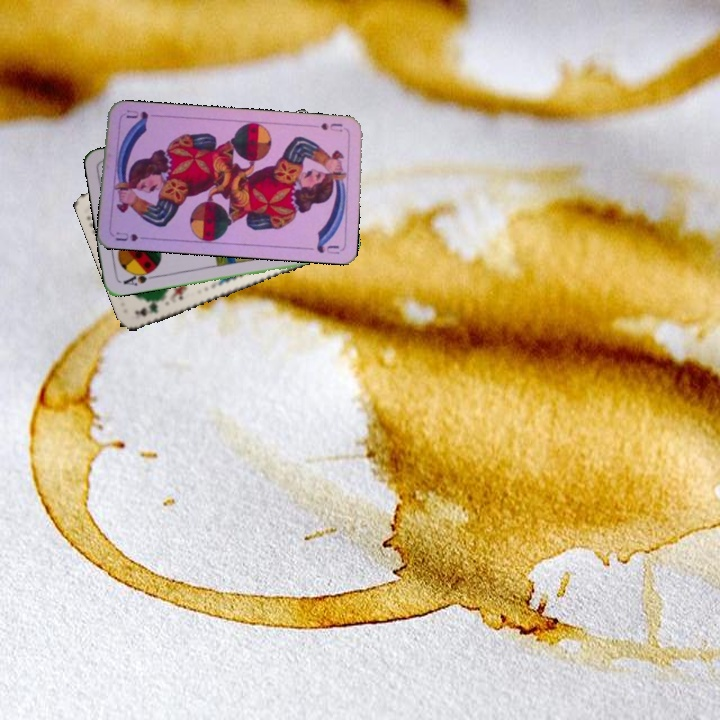GK: (131, 299, 160, 319)
SA: (119, 266, 158, 288)
SU: (112, 228, 152, 244), (317, 118, 349, 134)
